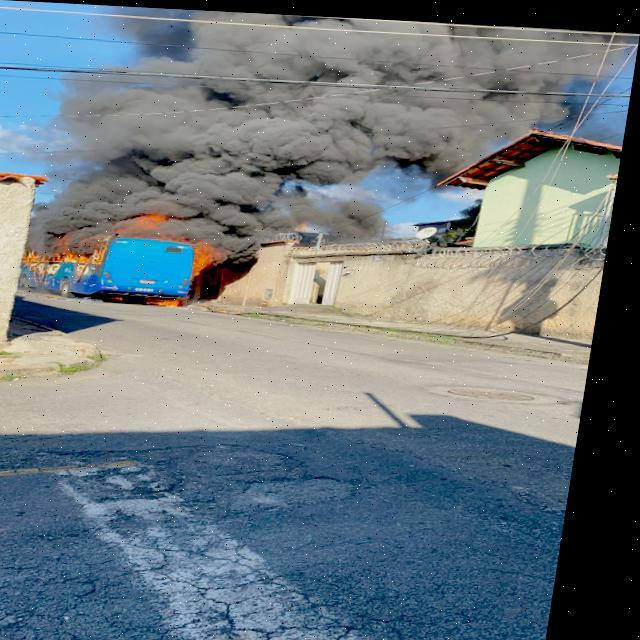Fire: (190, 237, 226, 274), (62, 248, 114, 264), (29, 250, 54, 268), (155, 296, 190, 304)
